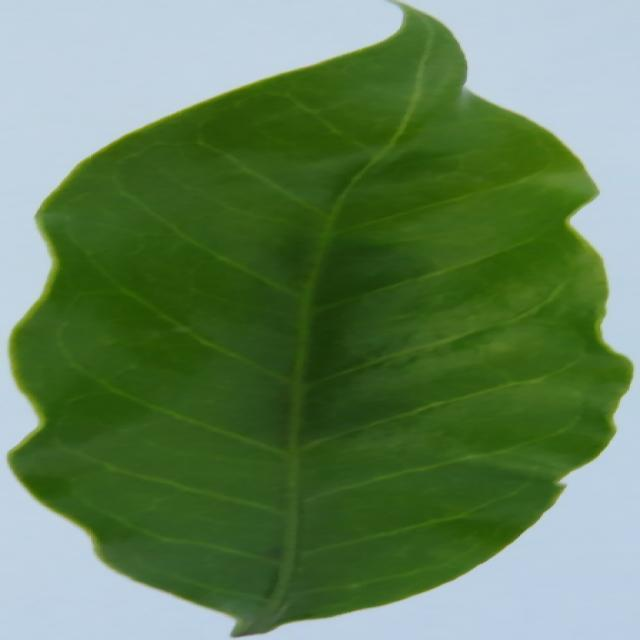DeficienciaNutricional-Calcio: (10, 5, 631, 636)
